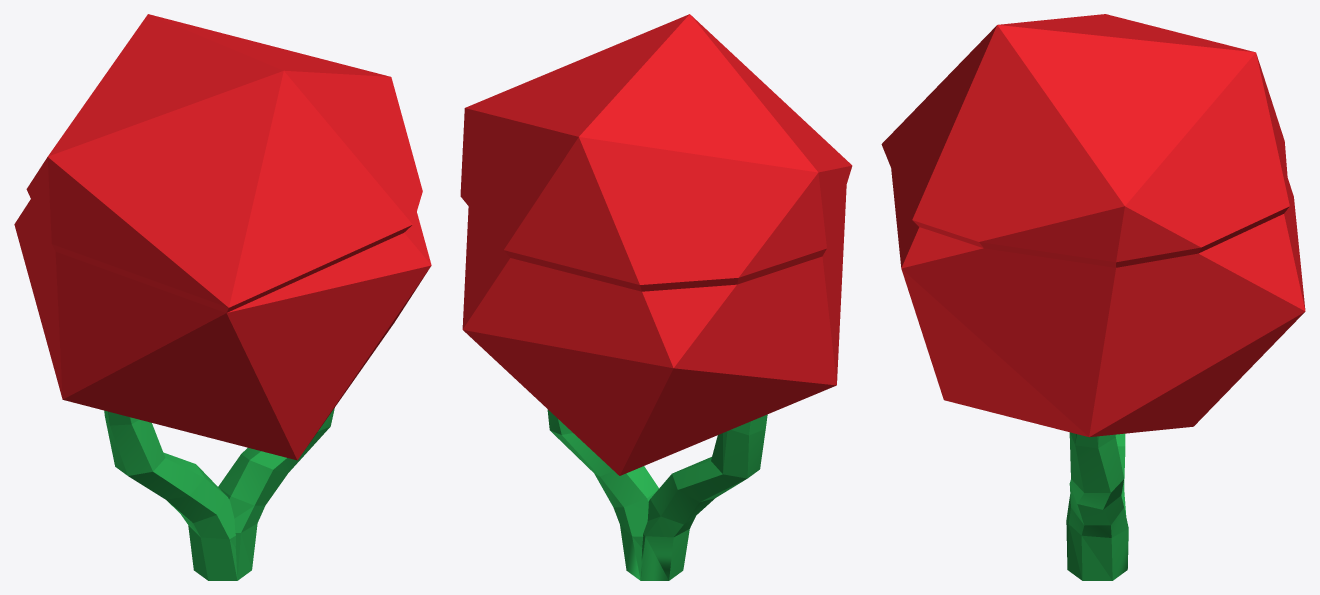
The model's file is Bush2.obj.
The picture shows the model from 3 angles, left to right: view 1: azimuth 30°, elevation 25°; view 2: azimuth 150°, elevation 25°; view 3: azimuth 270°, elevation 25°; orthographic projection. The views are drawn at different scales.
Visible parts, largest first — view 1: Cylinder.015; view 2: Cylinder.015; view 3: Cylinder.015.
Part boxes in pixels (left/top/right/bottom): Cylinder.015: left=14, top=14, right=431, bottom=580; Cylinder.015: left=460, top=14, right=852, bottom=580; Cylinder.015: left=881, top=14, right=1305, bottom=580.
Size of the model in its own units: 1.89 by 2.7 by 1.88.
